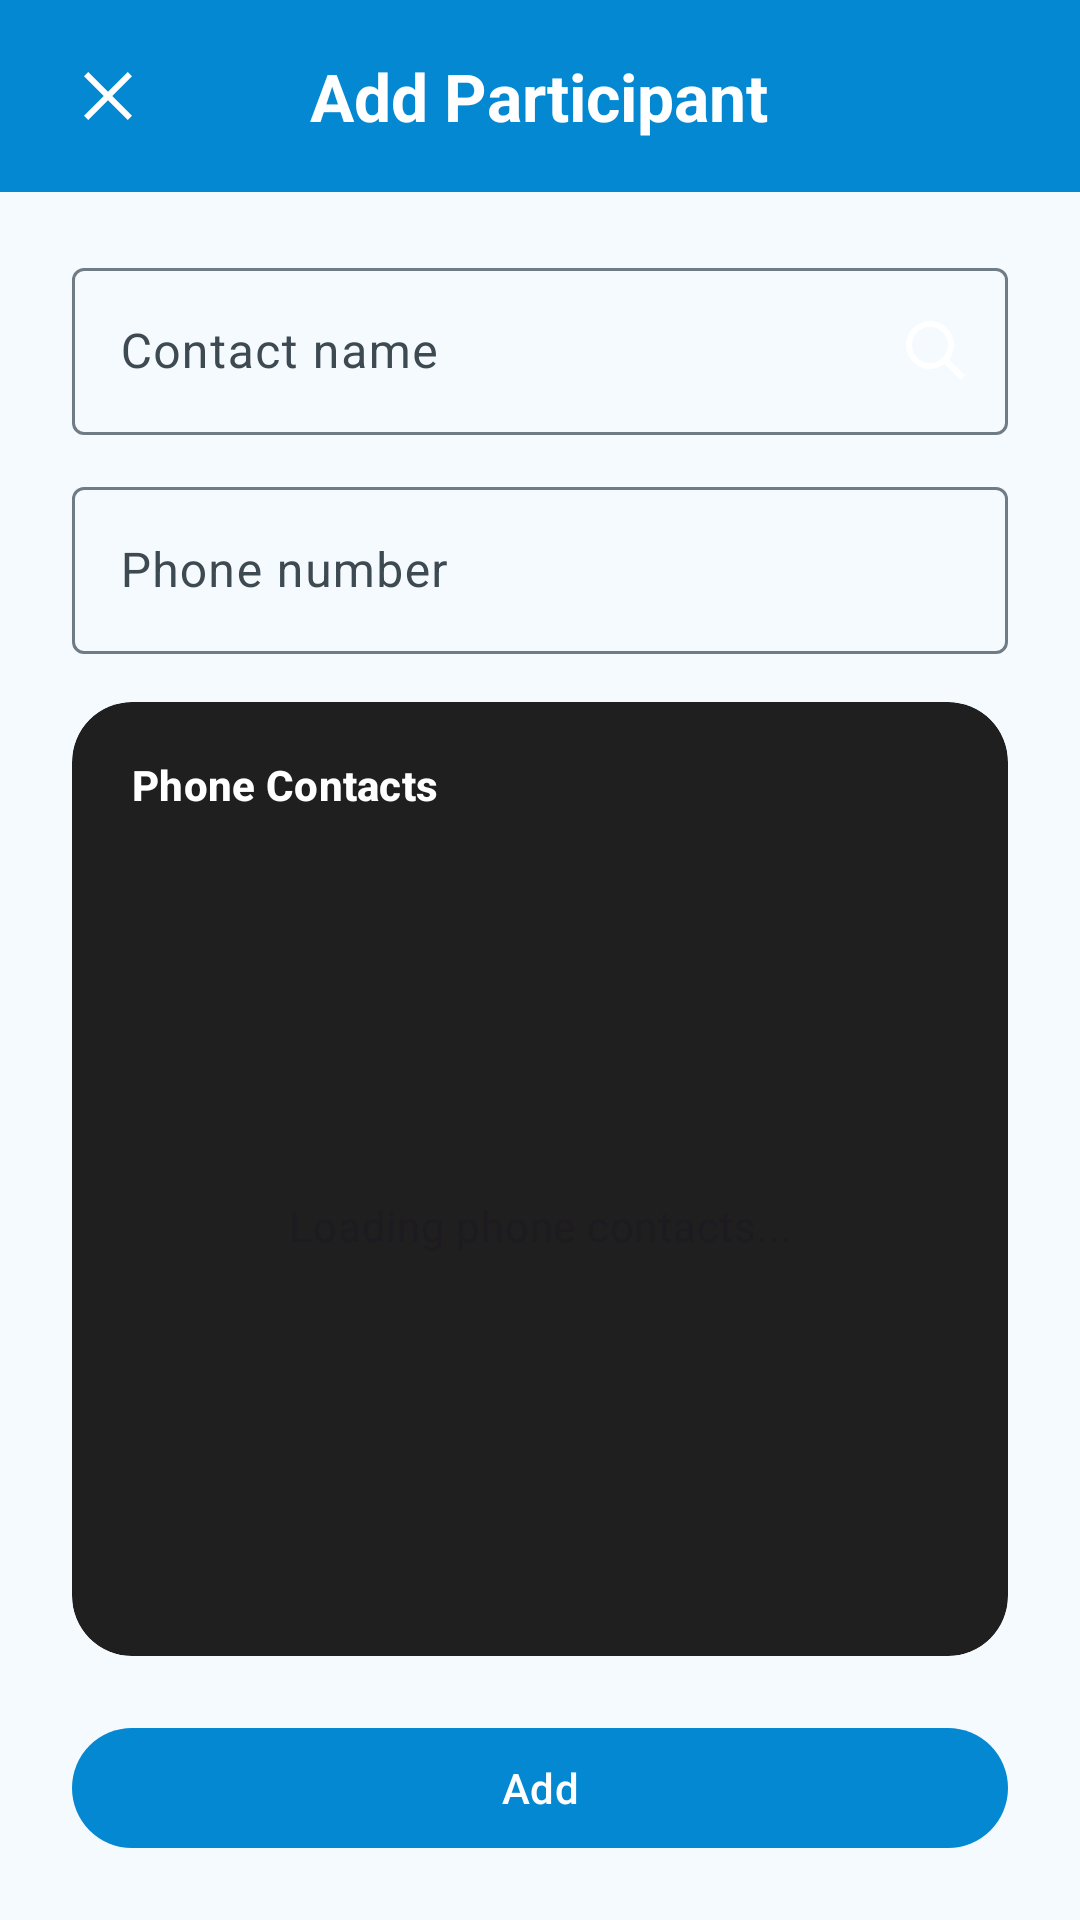

Icon click points for this 1080px x 1920px phone screenshot, format [x,y]:
Close: [108,96]
